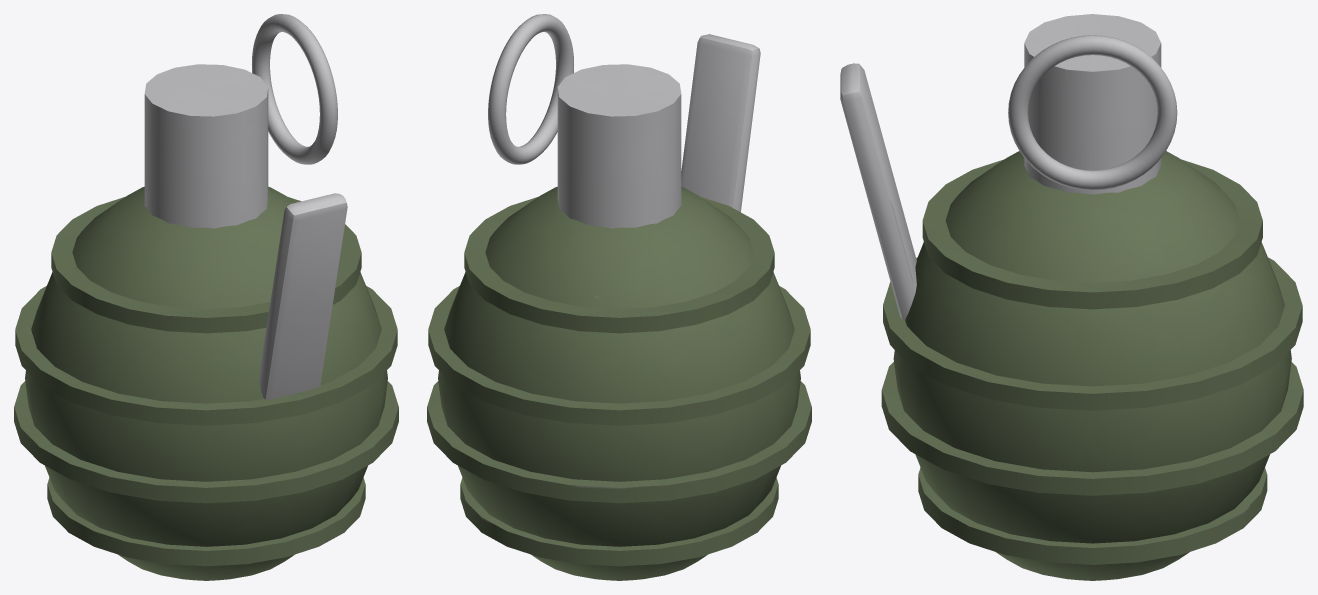
The model's file is SM_FragGrenade.fbx.
3 renders of one model, left to right at view 1: azimuth 30°, elevation 25°; view 2: azimuth 150°, elevation 25°; view 3: azimuth 270°, elevation 25°, orthographic. The views are drawn at different scales.
Parts seen in each view (by area): view 1: SM_FragGrenade; view 2: SM_FragGrenade; view 3: SM_FragGrenade.
Part boxes in pixels (left/top/right/bottom): SM_FragGrenade: left=14, top=14, right=398, bottom=580; SM_FragGrenade: left=427, top=14, right=811, bottom=580; SM_FragGrenade: left=840, top=14, right=1303, bottom=580.
Size of what is drawn, in the model's own units: 0.0678 by 0.1024 by 0.0745.
Materials: 1 (1 with a texture image).
